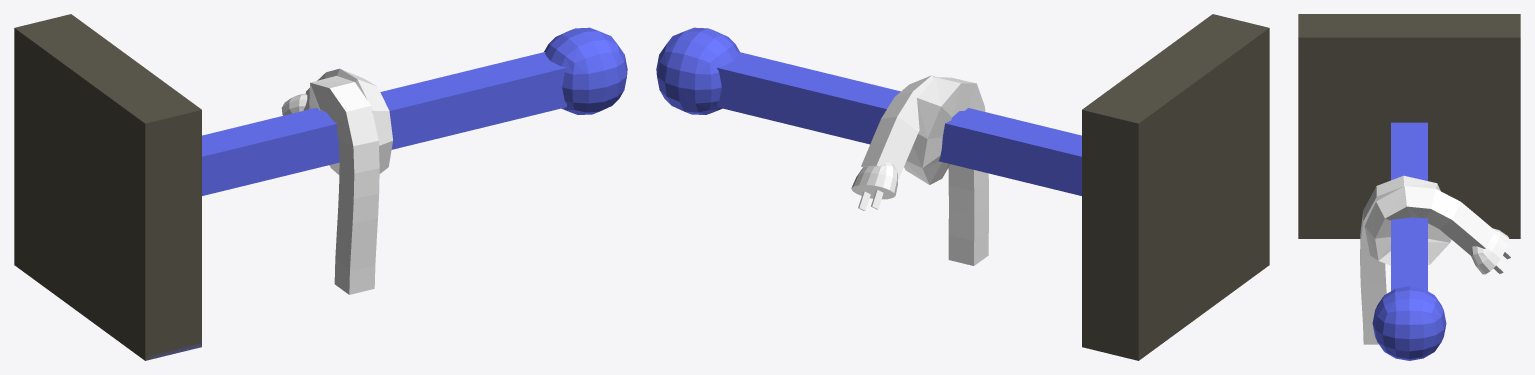
Rendered from pinandrope2_tex.obj.
3 renders of one model, left to right at view 1: azimuth 30°, elevation 25°; view 2: azimuth 150°, elevation 25°; view 3: azimuth 270°, elevation 25°, orthographic. The views are drawn at different scales.
Visible parts, largest first — view 1: 立方体; view 2: 立方体; view 3: 立方体.
Part boxes in pixels (x1,y1,x2,y2): 立方体: (14, 14, 627, 360); 立方体: (656, 14, 1269, 360); 立方体: (1298, 14, 1520, 360).
Size of the model in its own units: 1.88 by 0.8555 by 0.785.
Materials: 1 (1 with a texture image).
